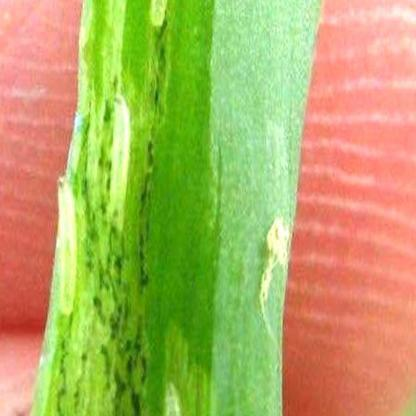whorl-maggot: (106, 81, 136, 233), (56, 170, 82, 316)
